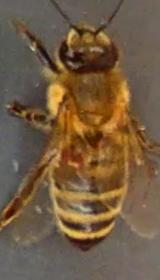varroa_mite: (56, 144, 94, 171)
